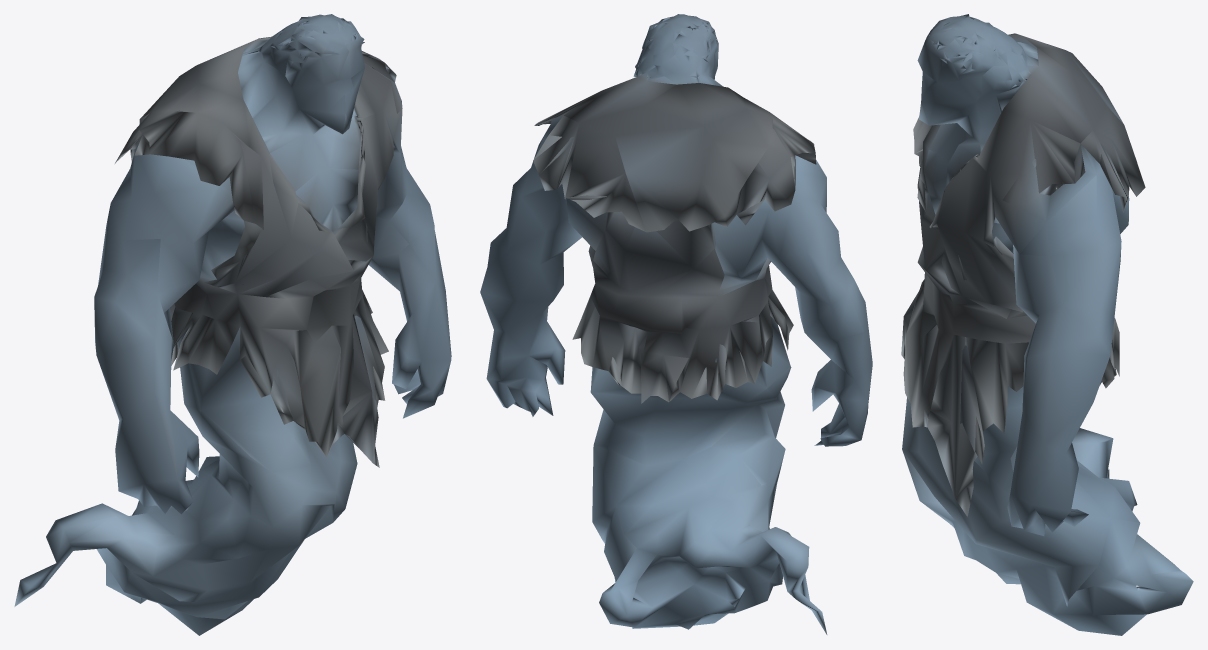
The model's file is ghost-wraithA-far.glb.
The picture shows the model from 3 angles, left to right: view 1: azimuth 30°, elevation 25°; view 2: azimuth 150°, elevation 25°; view 3: azimuth 270°, elevation 25°; orthographic projection. The views are drawn at different scales.
Bounding box in the file's own units: 1.27 × 1.89 × 0.7942.
